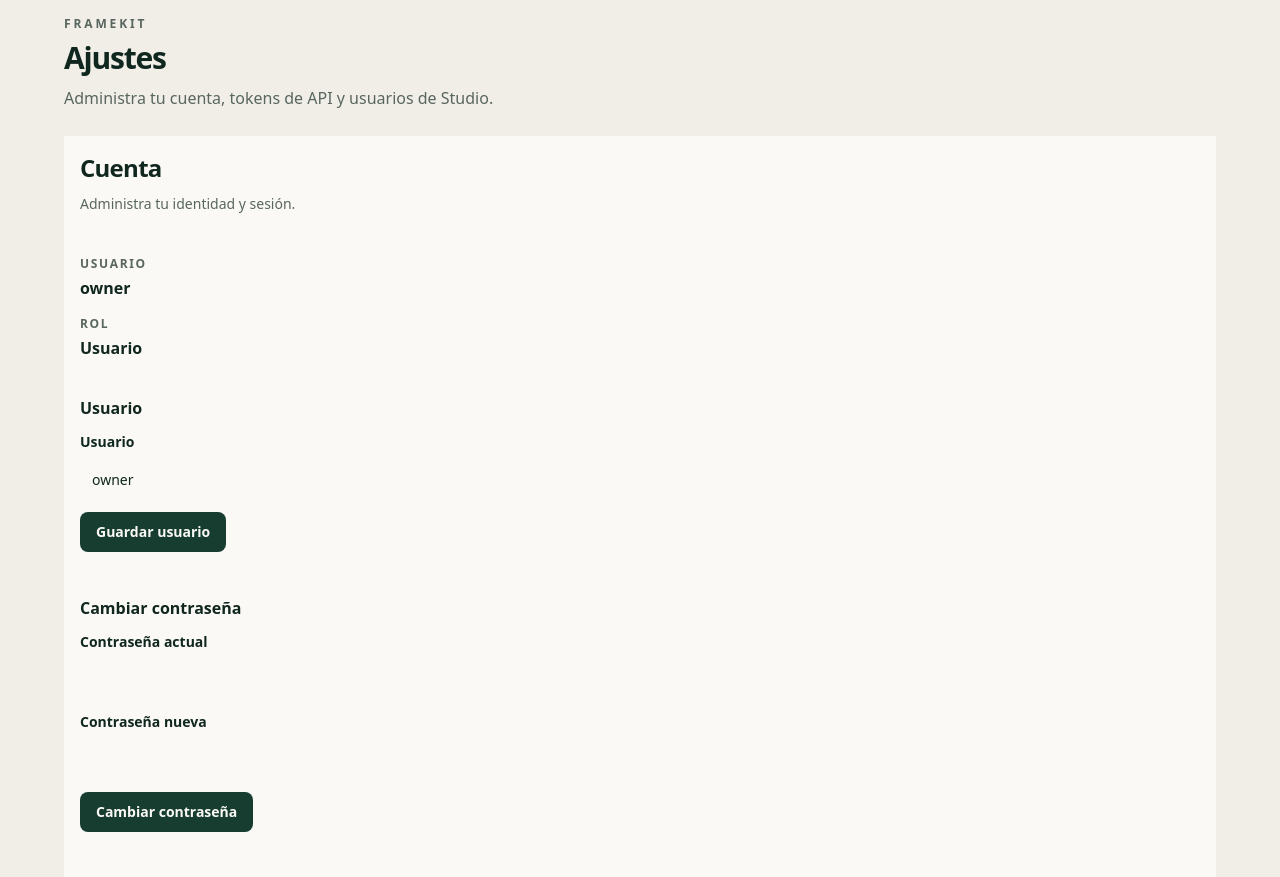
Scenario: FrameKitStudioSettings safe failures › uses the localized Spanish close label for error toasts
Replace the text in the field labelled "Usuario" with "nuevo-usuario": {"x": 640, "y": 480} [80,460,1200,500]
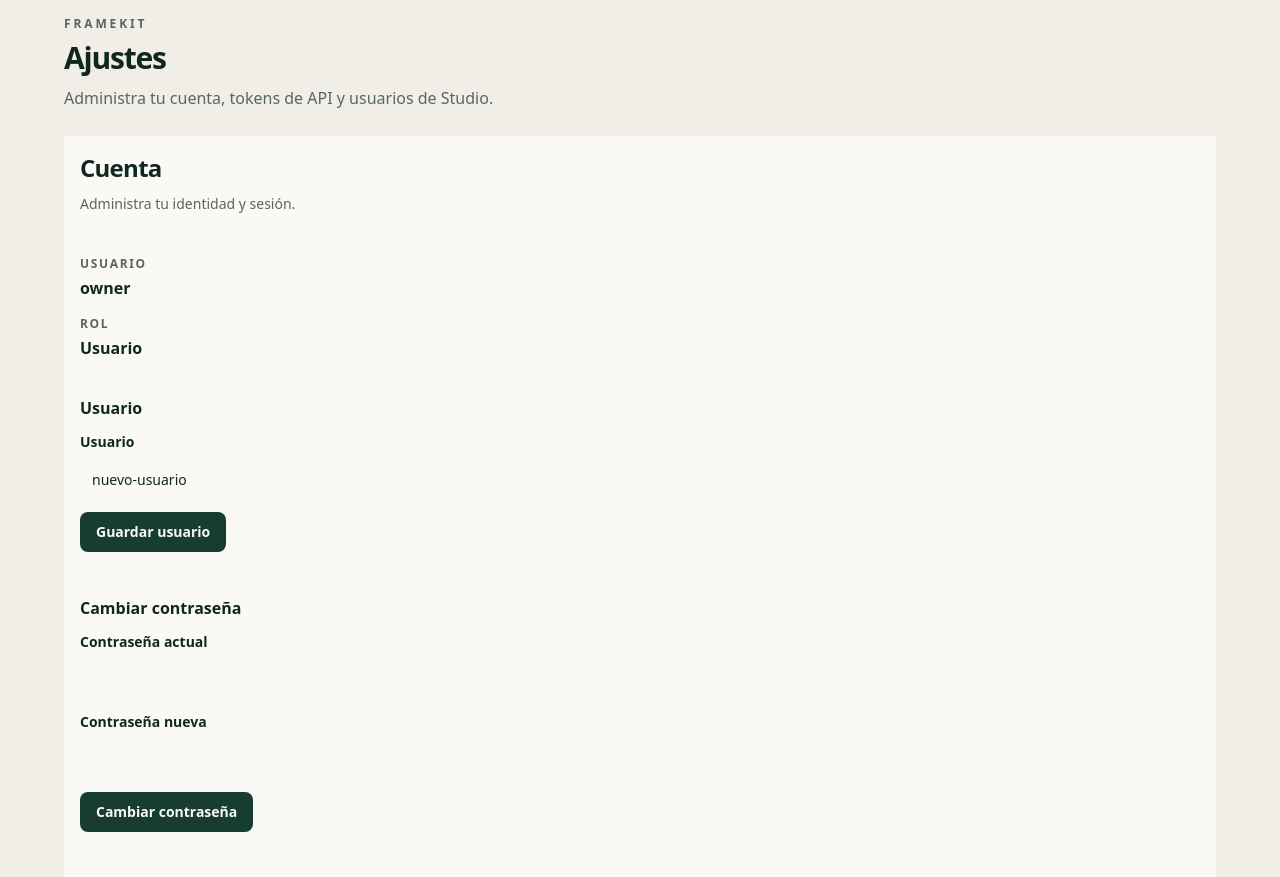
Submit the form "Guardar usuario", box [80,376,1200,552]
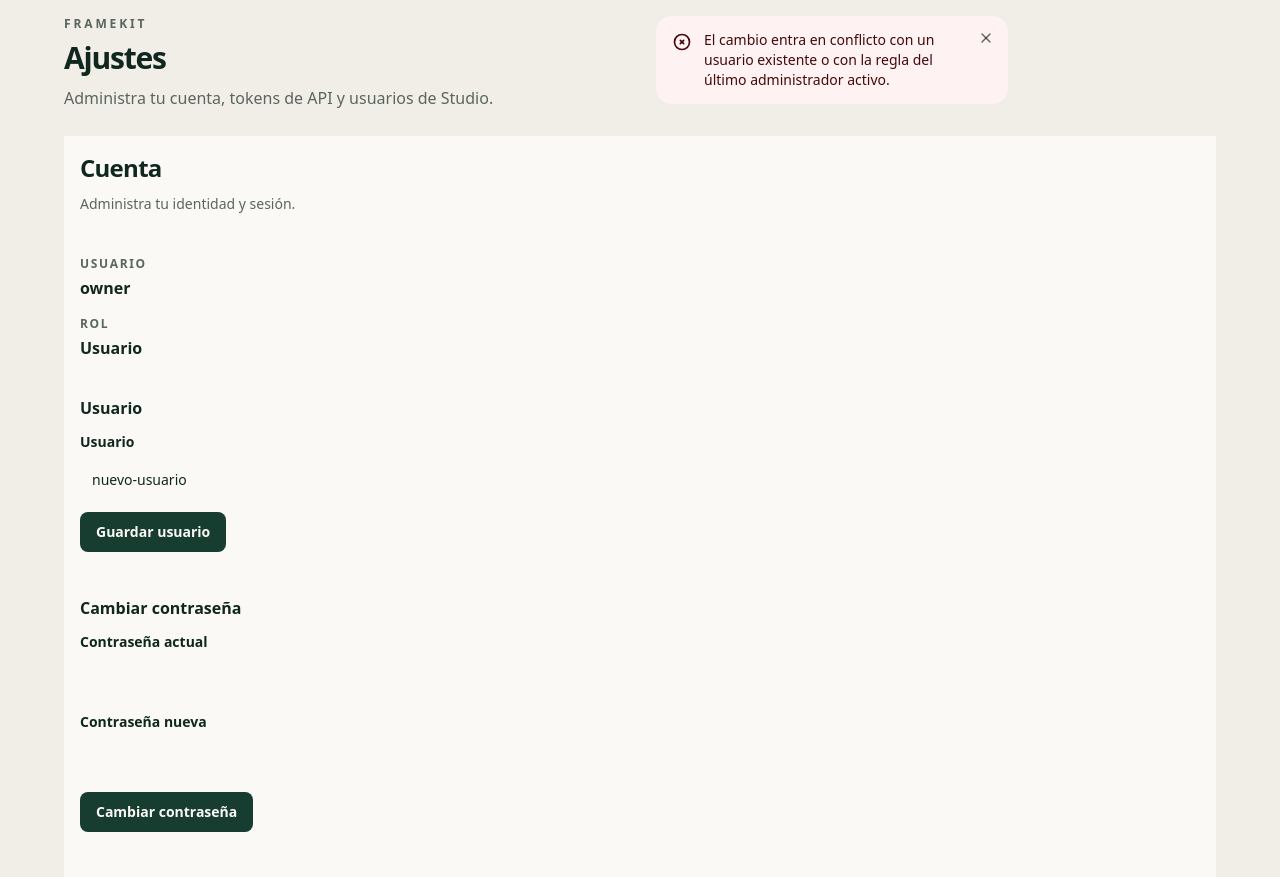
Expected: the button named "Cerrar" is shown, [972,24,1000,52]
